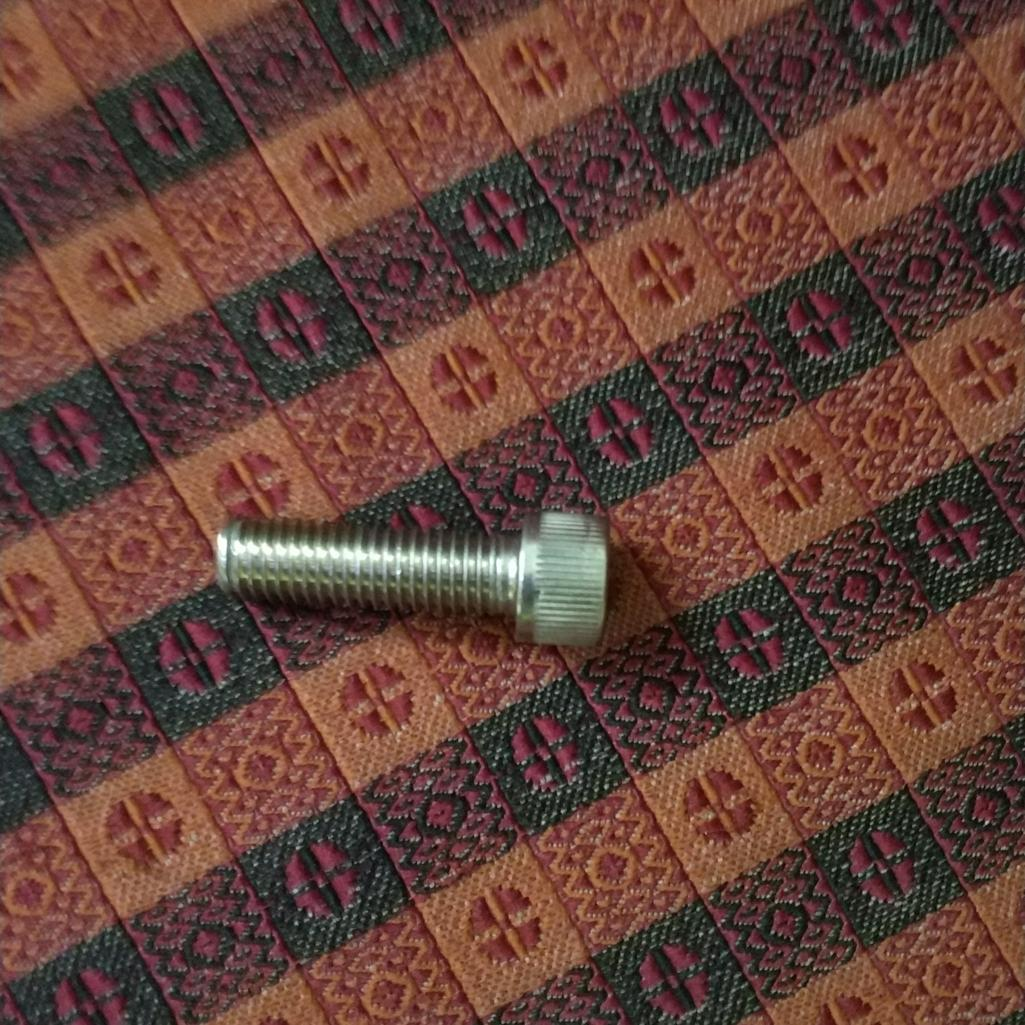screwtype1silver: (199, 482, 611, 673)
